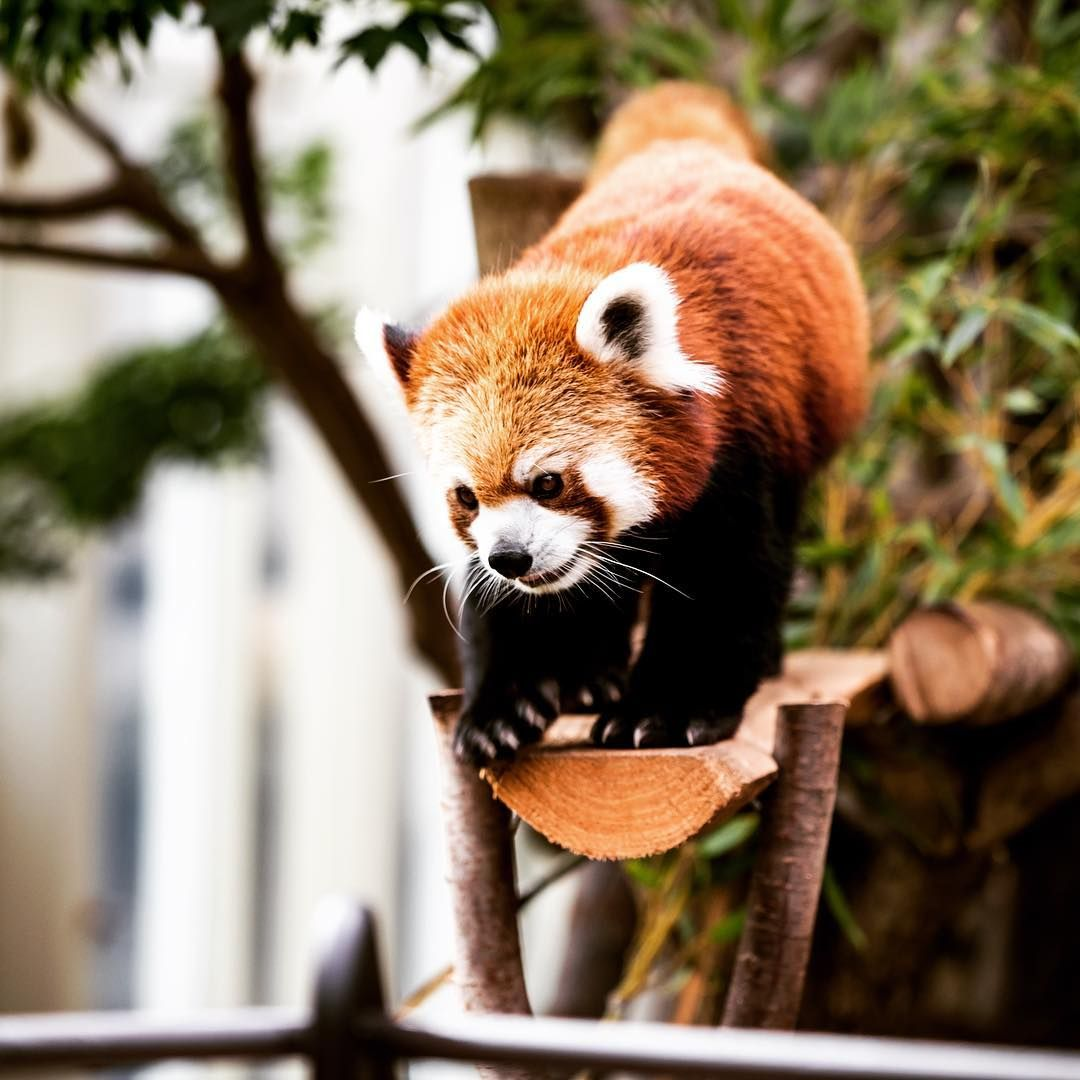redPanda: (342, 64, 901, 751)
